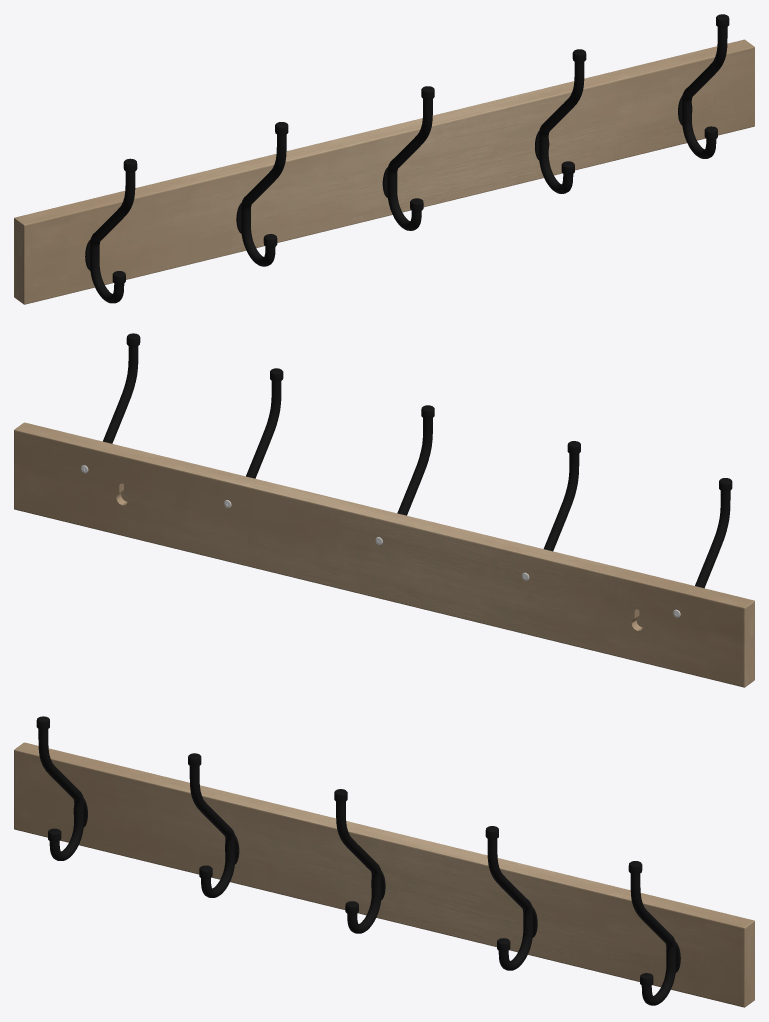
Rendered from abo-B01N2PLWIL.glb.
The picture shows the model from 3 angles, top to bottom: view 1: azimuth 30°, elevation 25°; view 2: azimuth 150°, elevation 25°; view 3: azimuth 330°, elevation 25°; orthographic projection.
Bounding box in the file's own units: 0.571 × 0.117 × 0.071.
Materials: 1 (1 with a texture image).
